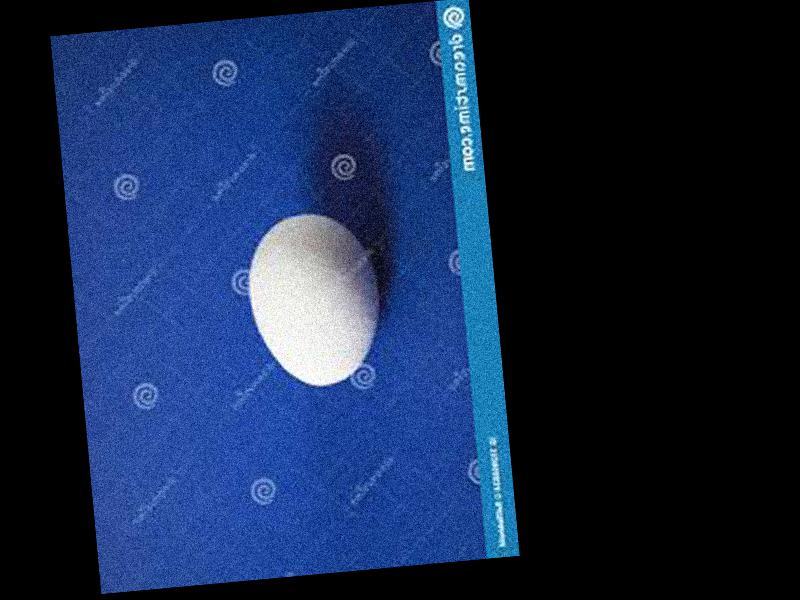Eggs: (244, 207, 386, 392)
